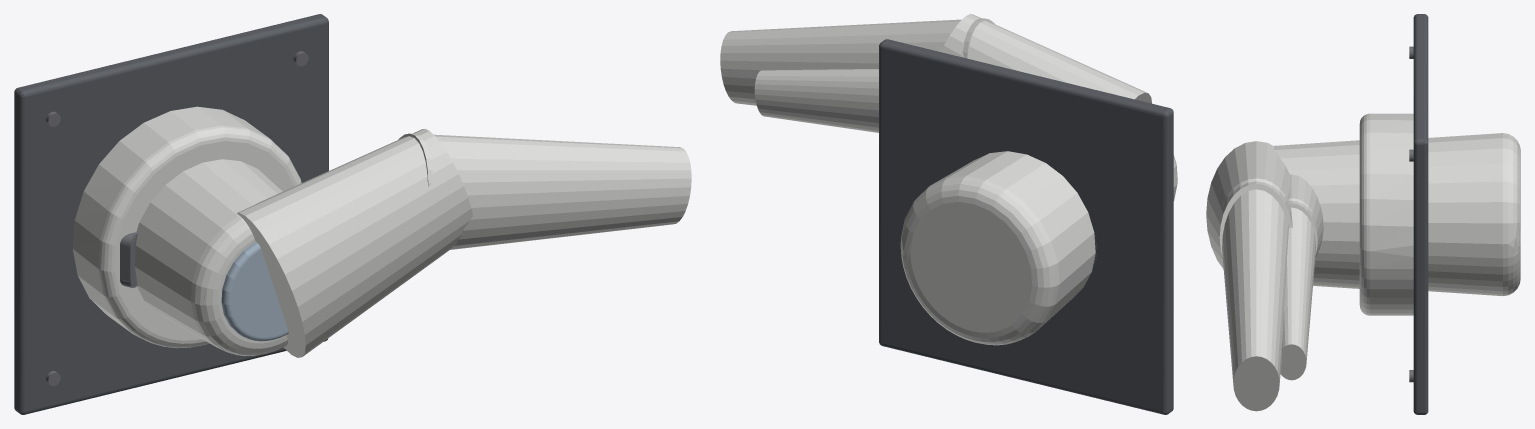
Rendered from arm.glb.
3 views of the same model, side by side, from view 1: azimuth 30°, elevation 25°; view 2: azimuth 150°, elevation 25°; view 3: azimuth 270°, elevation 25° (orthographic). The views are drawn at different scales.
Parts seen in each view (by area): view 1: b1, b3, b2, b8; view 2: b1, b3, b4; view 3: b3, b1, b2, b4.
Part boxes in pixels (box(x1,y1,x2,y2)): b1: box(14, 14, 328, 414); b3: box(203, 129, 691, 357); b2: box(135, 159, 288, 355); b8: box(120, 232, 137, 287); b1: box(879, 39, 1173, 414); b3: box(720, 14, 1151, 345); b4: box(754, 69, 878, 132); b3: box(1206, 133, 1520, 411); b1: box(1359, 14, 1428, 414); b2: box(1274, 140, 1359, 288); b4: box(1280, 174, 1323, 380).
Bounding box in the file's own units: 0.4788 × 0.2602 × 0.2693.
